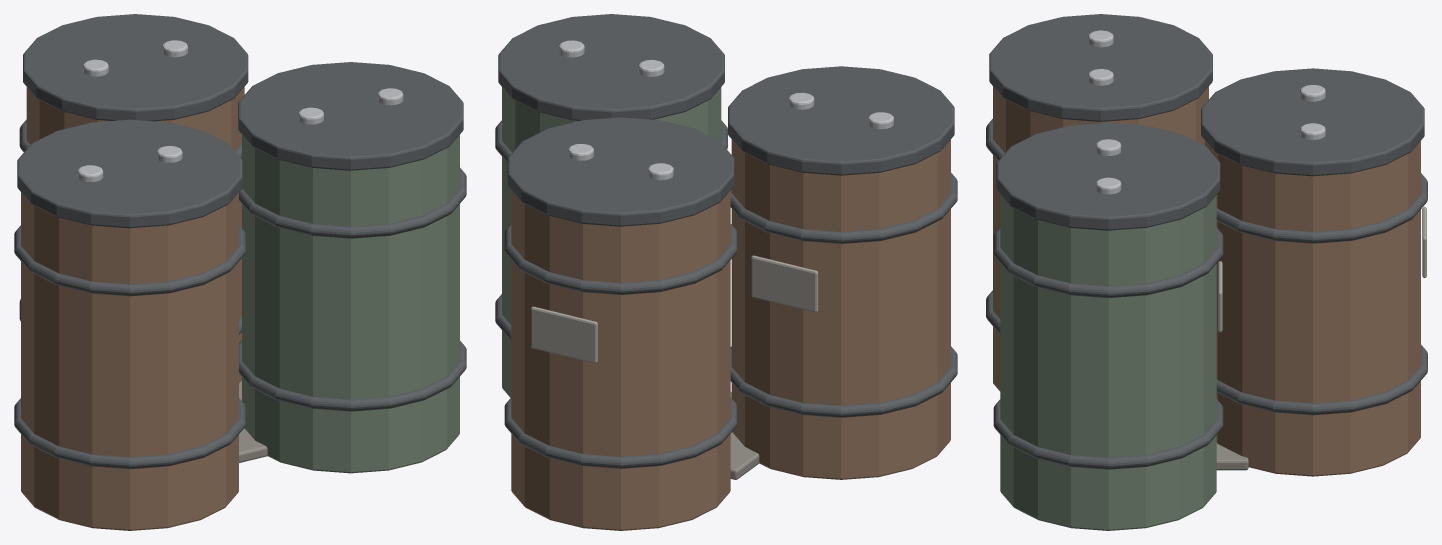
Rendered from barrel_cluster.fbx.
3 renders of one model, left to right at view 1: azimuth 30°, elevation 25°; view 2: azimuth 150°, elevation 25°; view 3: azimuth 270°, elevation 25°, orthographic.
Visible parts, largest first — view 1: barrel_cluster; view 2: barrel_cluster; view 3: barrel_cluster.
Boxes of the visible parts, x1=… form: barrel_cluster: x1=14, y1=14, x2=466, y2=530; barrel_cluster: x1=495, y1=14, x2=957, y2=530; barrel_cluster: x1=986, y1=14, x2=1427, y2=530.
Bounding box in the file's own units: 1.3 × 0.94 × 1.17.
